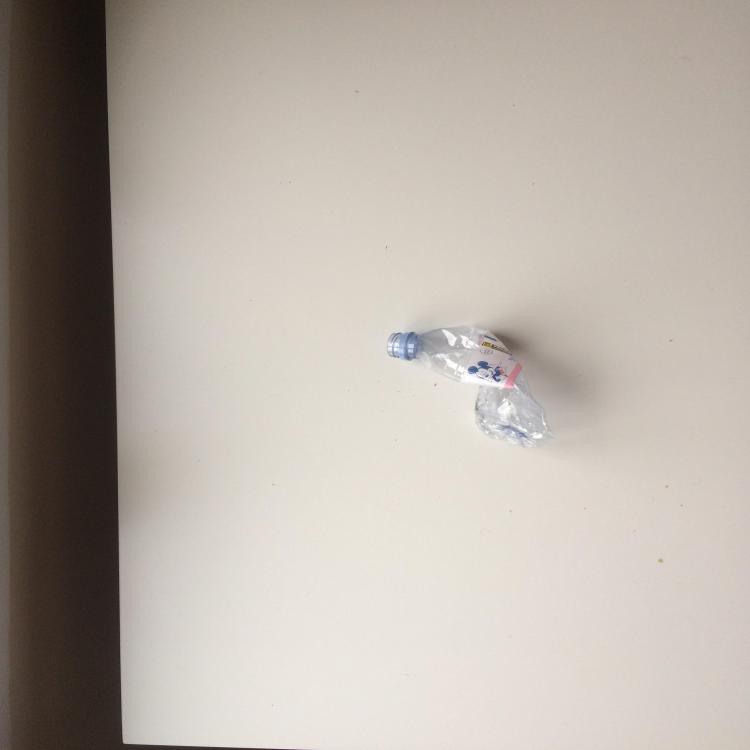Clear plastic bottle: (387, 326, 554, 448)
